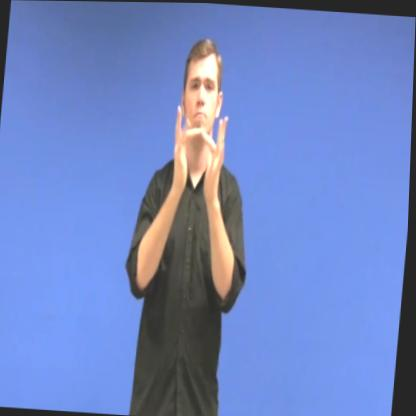Internet: (156, 101, 236, 218)
